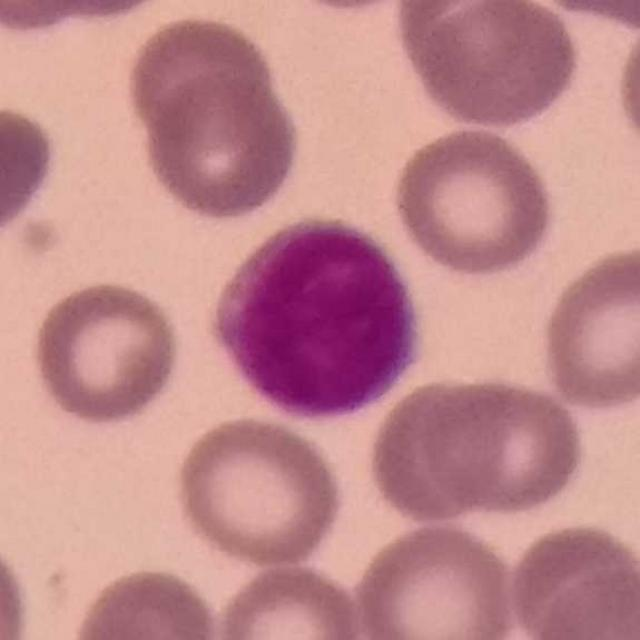Lymphocyte: (206, 210, 428, 427)
RBC: (169, 411, 347, 570), (387, 122, 560, 280), (410, 373, 590, 521), (135, 66, 305, 222), (27, 276, 186, 429), (399, 0, 583, 132), (120, 10, 284, 153), (363, 373, 507, 527), (349, 517, 522, 640), (535, 239, 640, 414), (505, 517, 639, 640), (210, 558, 367, 640), (66, 562, 222, 640), (0, 100, 61, 246), (1, 0, 180, 30), (611, 7, 640, 164), (0, 530, 35, 640), (513, 0, 640, 29), (0, 0, 91, 36), (274, 0, 435, 16)
